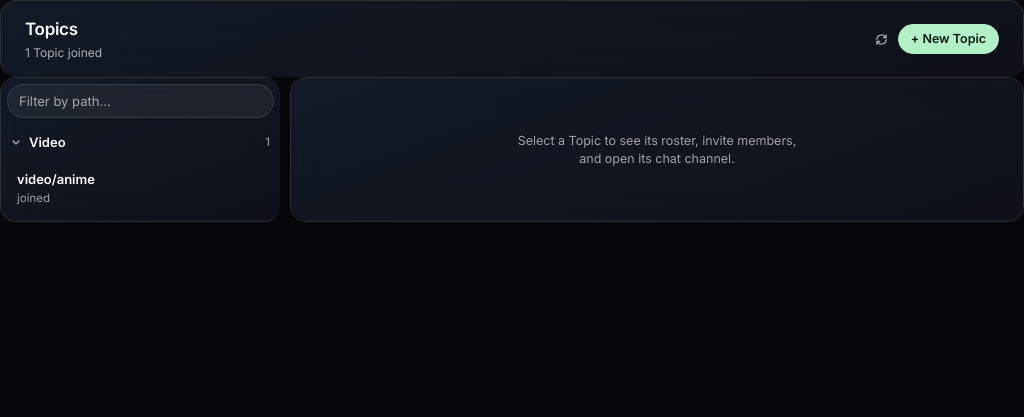
Test case: QURATOR-146 — roster row hands off to chat › an absent profile renders the honest "No published profile" line — never blank, never an empty card
Click the button with class "topic-row".
click(56, 179)  # box x1=7 y1=161 x2=274 y2=215
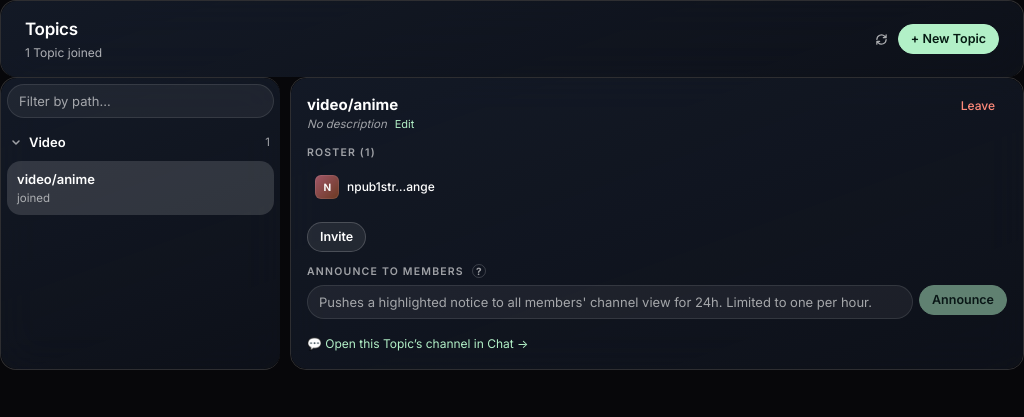
Check: the element with class "self" is shown
Hover over the element with class "self".
mouse_move(375, 187)  # box x1=315 y1=175 x2=435 y2=199
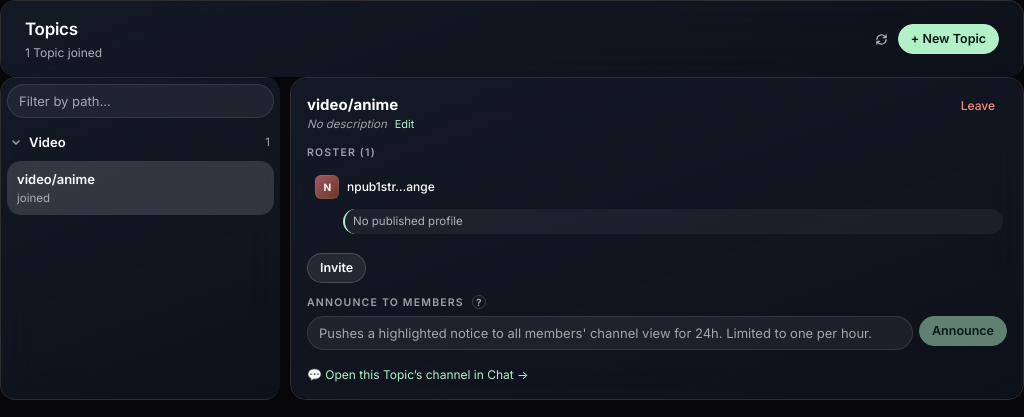
Check: the number of tooltips with class "roster-bio" is 1, box x1=343 y1=209 x2=1003 y2=234
